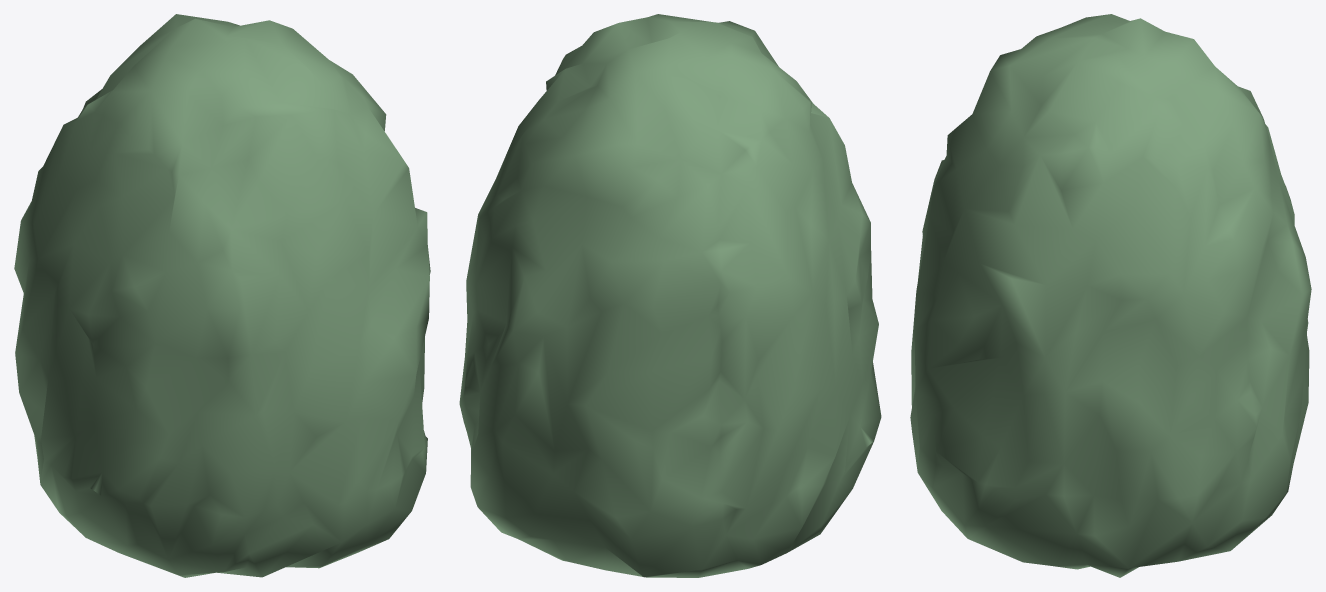
The model's file is Bush_Tall.fbx.
3 renders of one model, left to right at view 1: azimuth 30°, elevation 25°; view 2: azimuth 150°, elevation 25°; view 3: azimuth 270°, elevation 25°, orthographic. The views are drawn at different scales.
Parts seen in each view (by area): view 1: pCube8; view 2: pCube8; view 3: pCube8.
Boxes of the visible parts, left/top/right/bottom form: pCube8: left=14, top=14, right=430, bottom=577; pCube8: left=459, top=14, right=881, bottom=577; pCube8: left=910, top=14, right=1311, bottom=577.
Size of the model in its own units: 2.82 by 3.9 by 2.86.
